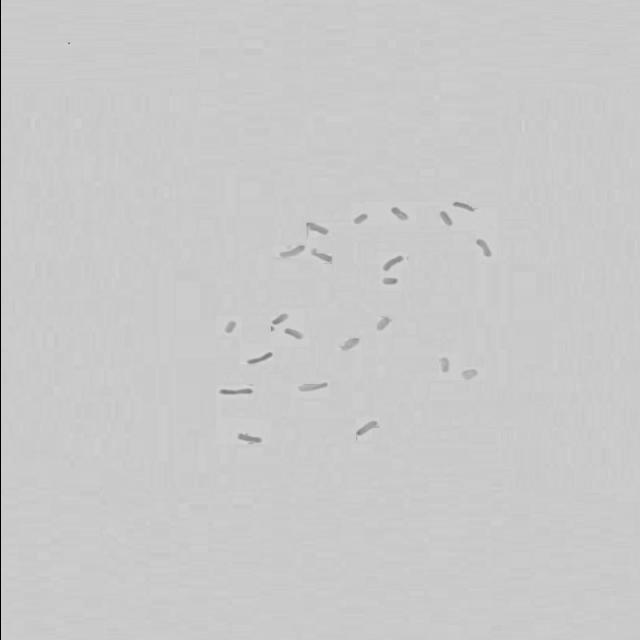E-coli: (243, 348, 276, 368), (381, 251, 404, 275), (388, 202, 412, 225), (213, 386, 255, 398), (276, 241, 301, 261), (297, 381, 330, 396), (470, 236, 492, 258), (354, 419, 377, 439), (305, 222, 333, 238), (233, 430, 263, 444), (434, 354, 454, 374), (307, 249, 331, 264), (437, 208, 453, 230), (450, 198, 475, 212), (284, 327, 308, 341), (374, 315, 390, 335), (349, 213, 369, 229), (339, 337, 360, 352), (269, 312, 289, 326), (222, 317, 236, 335), (461, 370, 481, 382), (382, 275, 396, 286)
